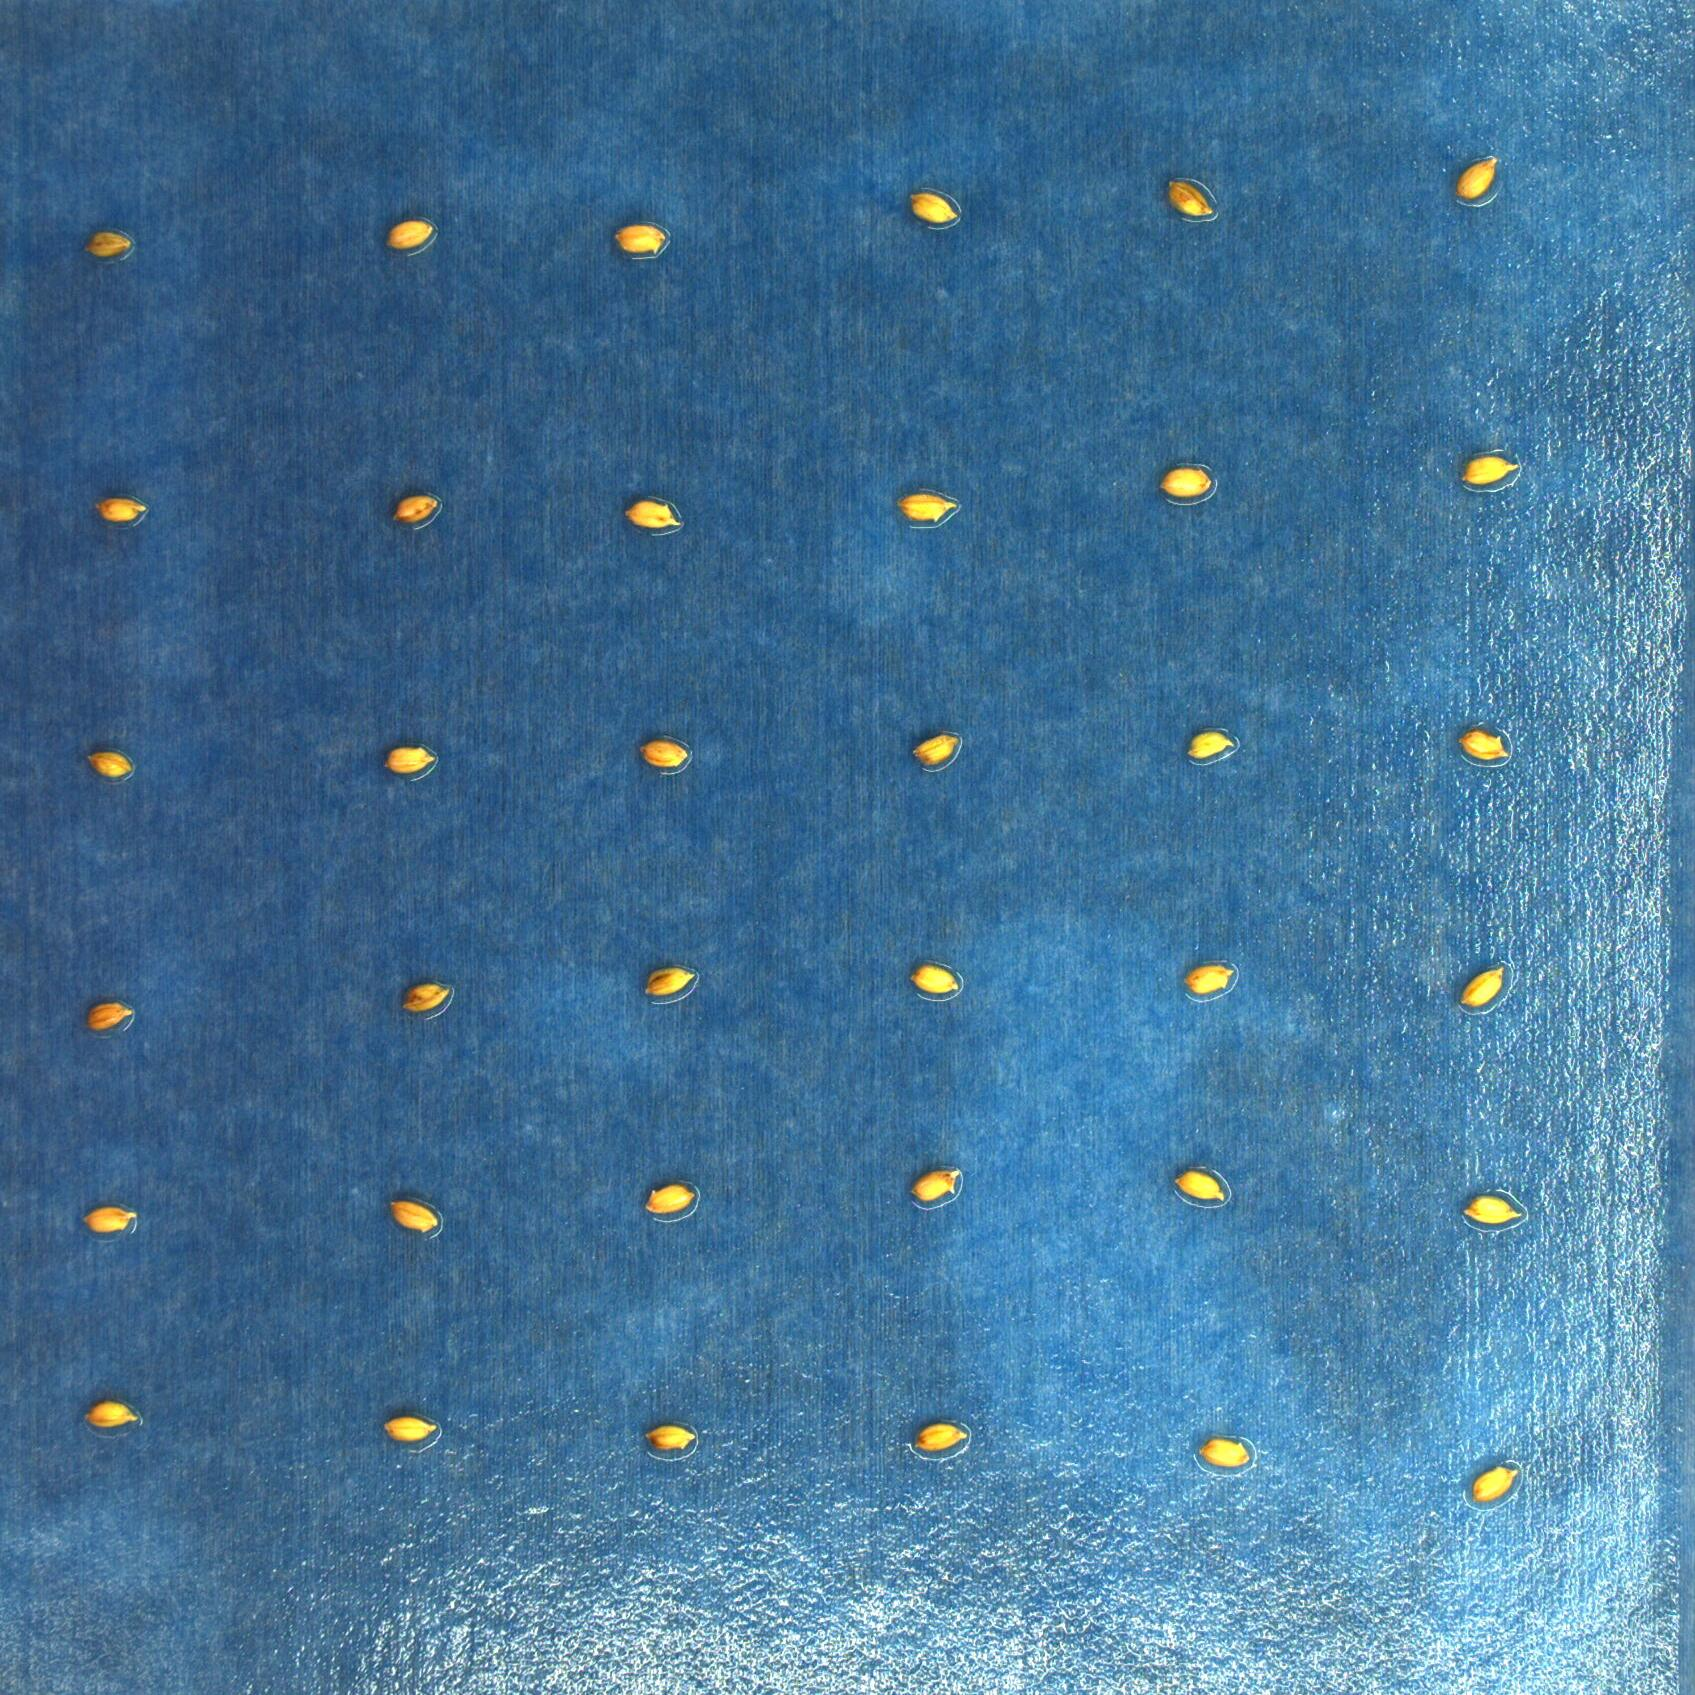not sprout: (1167, 180, 1218, 225), (627, 494, 685, 532), (1173, 1170, 1232, 1208), (906, 1166, 962, 1205), (906, 189, 959, 230), (643, 1180, 695, 1220), (385, 1197, 439, 1236), (1461, 962, 1506, 1009), (1451, 154, 1495, 200), (891, 492, 956, 523), (612, 220, 664, 258), (1461, 1194, 1523, 1225), (1462, 453, 1523, 484), (911, 1423, 967, 1456), (638, 736, 691, 770), (1468, 1465, 1516, 1503), (1159, 466, 1211, 500), (1200, 1437, 1253, 1470), (1462, 730, 1510, 765), (397, 979, 447, 1014), (382, 1414, 435, 1445), (910, 730, 951, 768), (385, 217, 432, 251), (643, 967, 694, 998), (82, 1402, 138, 1430), (1183, 965, 1232, 997), (391, 490, 436, 525), (911, 967, 962, 997), (382, 747, 432, 776), (85, 230, 130, 261), (1187, 730, 1232, 761), (643, 1426, 698, 1451), (82, 1208, 132, 1234), (82, 1003, 127, 1031), (88, 751, 130, 781), (95, 500, 147, 522)
